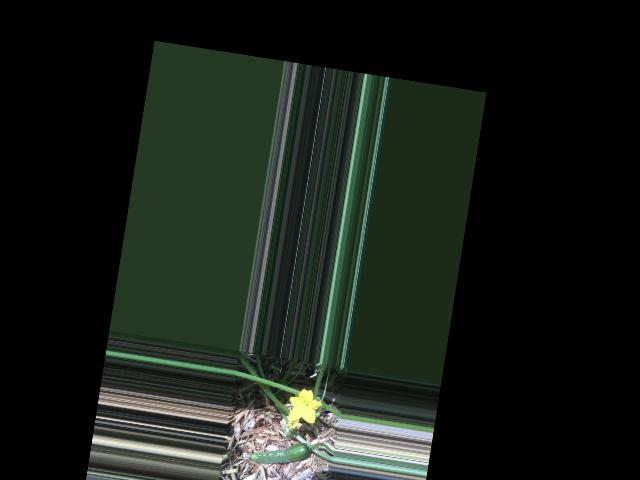cucumber: (243, 434, 311, 471)
